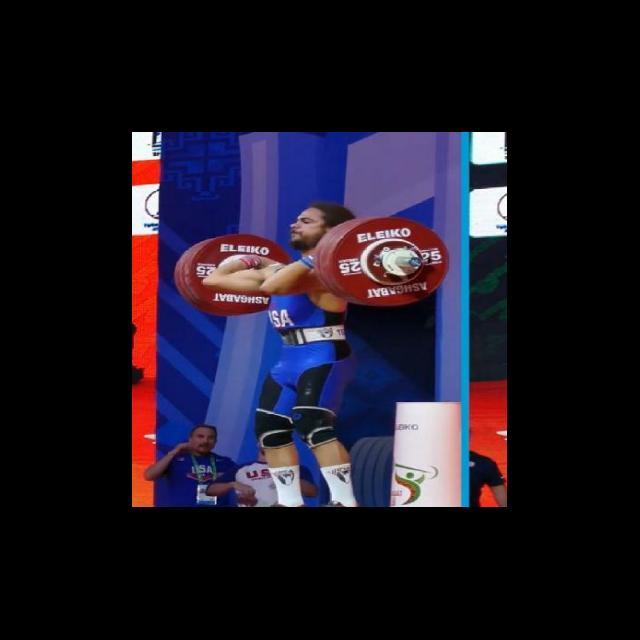barbell: (311, 211, 457, 310)
